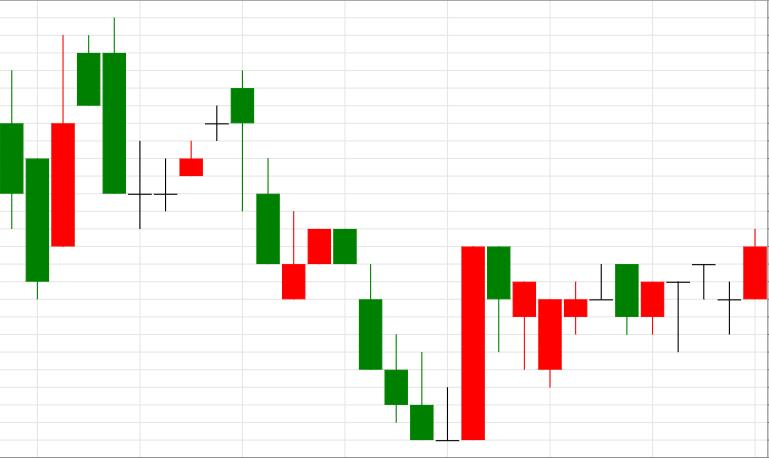inverse_hammer_rise: (333, 228, 433, 440)
morning_star_rise: (333, 229, 485, 442)
